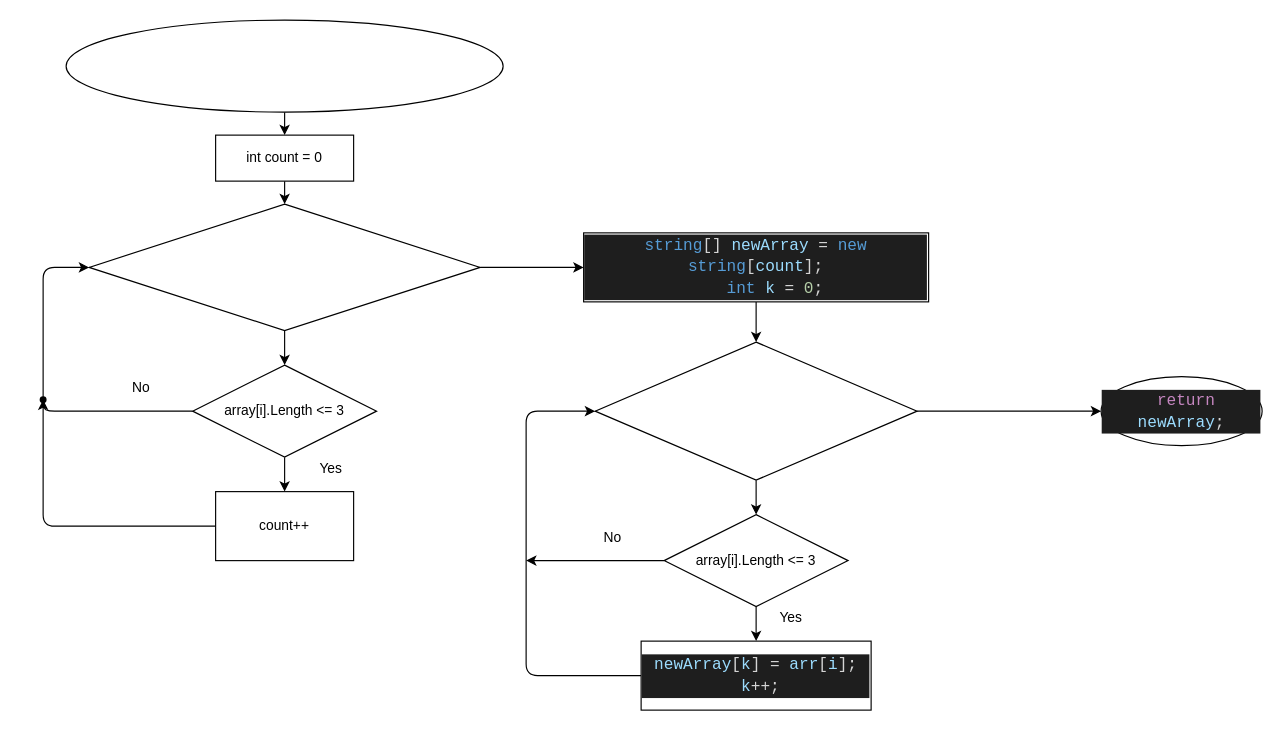
Some shapes in this 1282 by 730 pixel diagram are drawn without their labels. The shapes that lost their labels are listed below. From the top down, each one's centre as x and y in pixels, then its label:
At point 284,65: "string [] SortLessFour ( string [] arr )".
At point 284,267: "int i = 0 ; i < array . Length ; i ++".
At point 755,410: "int i = 0 ; i < arr . Length ; i ++".
